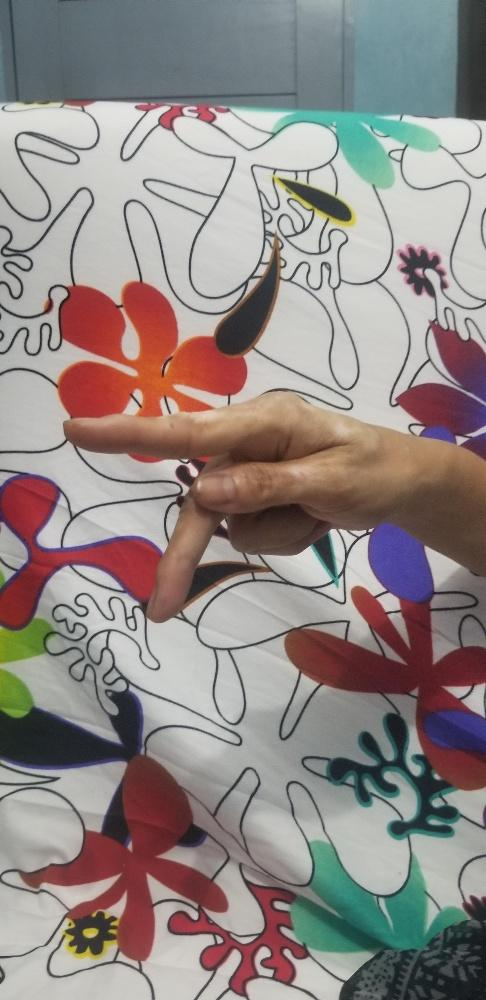p: (61, 386, 389, 624)
